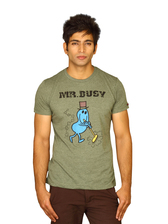clothoes: (31, 65, 133, 189)
